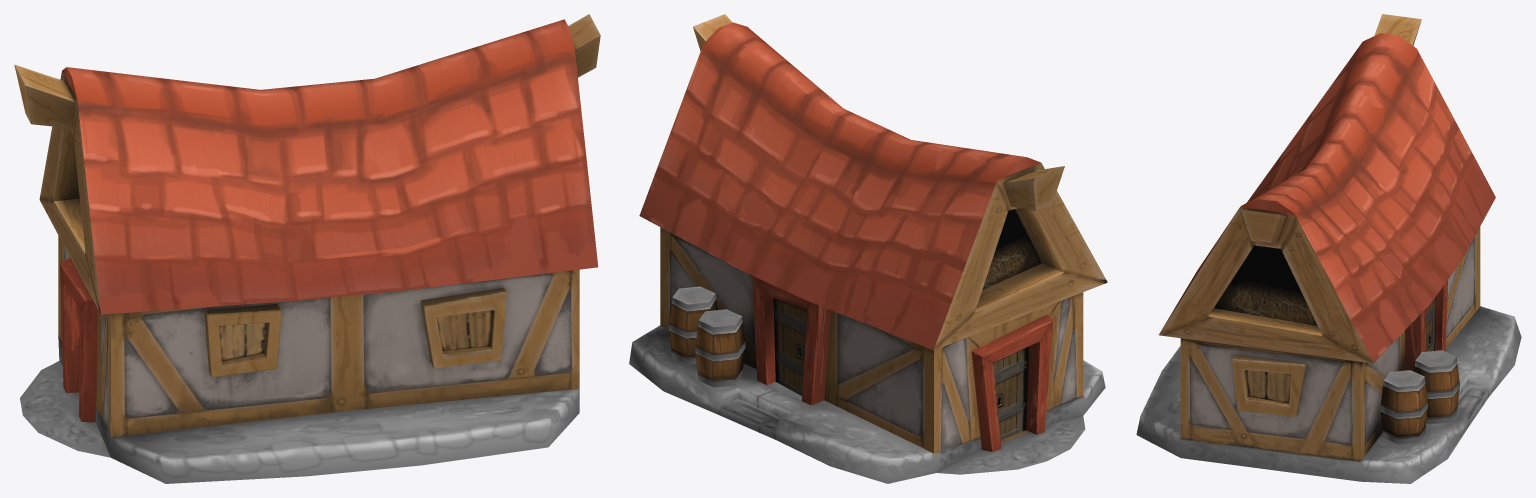
3 views of the same model, side by side, from view 1: azimuth 30°, elevation 25°; view 2: azimuth 150°, elevation 25°; view 3: azimuth 270°, elevation 25° (orthographic). The views are drawn at different scales.
Visible parts, largest first — view 1: GrainStore; view 2: GrainStore; view 3: GrainStore.
Boxes of the visible parts, x1,y1,x2,y2 form: GrainStore: [14, 14, 600, 483]; GrainStore: [629, 14, 1107, 483]; GrainStore: [1136, 14, 1521, 483].
Size of the model in its own units: 60.58 by 38.98 by 49.47.
Materials: 1 (1 with a texture image).
